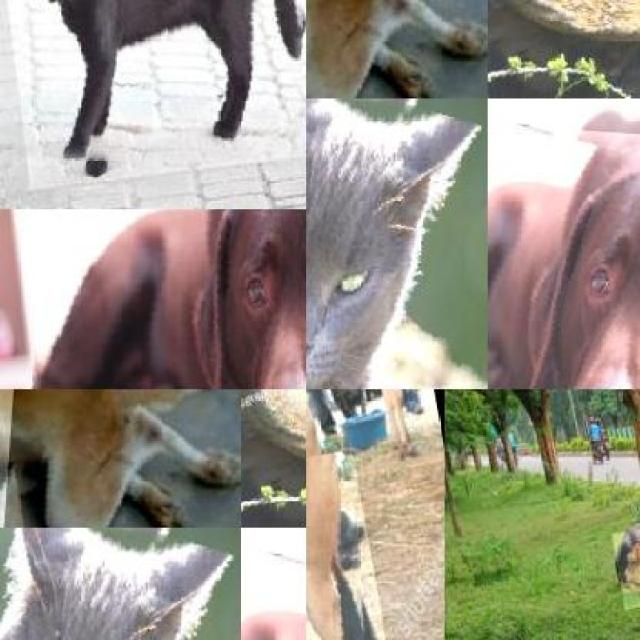buffalo: (487, 0, 640, 98), (240, 389, 306, 528)
cat: (0, 0, 306, 189), (306, 98, 488, 390), (0, 527, 240, 640)
cow: (306, 389, 414, 640), (306, 389, 440, 465), (611, 517, 640, 608)
dog: (8, 209, 306, 389), (487, 115, 640, 389), (0, 389, 234, 528)
injured: (0, 389, 240, 528), (306, 0, 487, 98)
